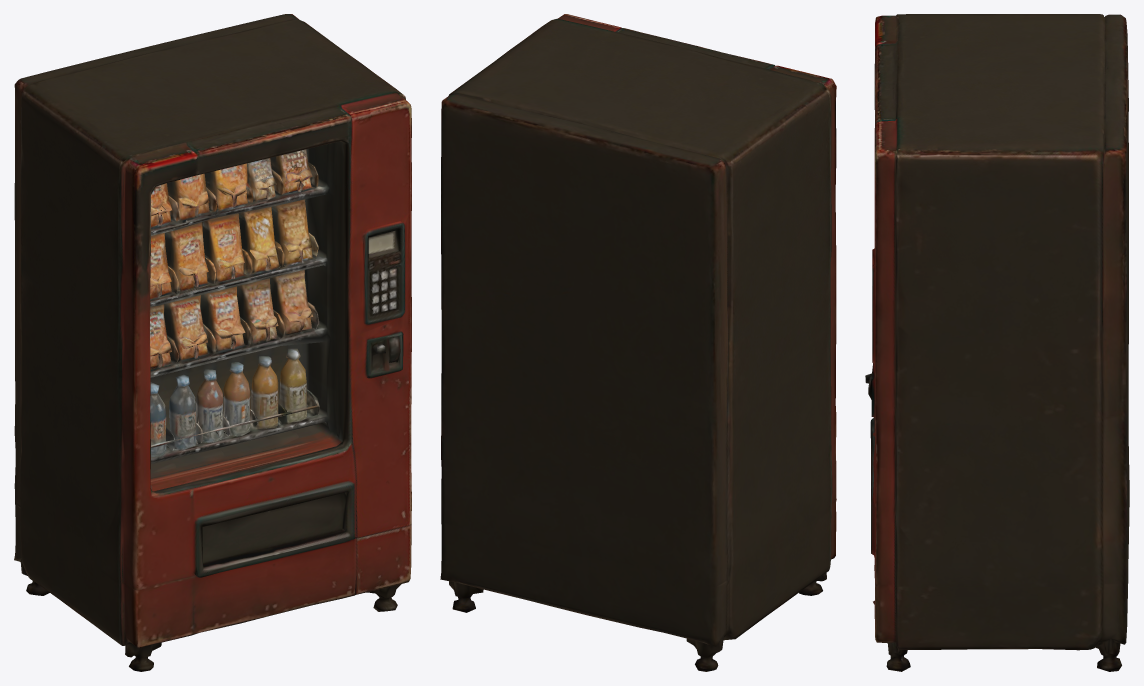
Rendered from vending.glb.
3 views of the same model, side by side, from view 1: azimuth 30°, elevation 25°; view 2: azimuth 150°, elevation 25°; view 3: azimuth 270°, elevation 25° (orthographic). The views are drawn at different scales.
Parts seen in each view (by area): view 1: tripo_node_e2748be3-8153-4657-b47c-6e1420106755; view 2: tripo_node_e2748be3-8153-4657-b47c-6e1420106755; view 3: tripo_node_e2748be3-8153-4657-b47c-6e1420106755.
Boxes of the visible parts, x1,y1,x2,y2 form: tripo_node_e2748be3-8153-4657-b47c-6e1420106755: [14, 14, 411, 671]; tripo_node_e2748be3-8153-4657-b47c-6e1420106755: [440, 14, 836, 671]; tripo_node_e2748be3-8153-4657-b47c-6e1420106755: [865, 14, 1129, 671].
Bounding box in the file's own units: 0.5854 × 1 × 0.4532.
1 material, 1 textured.
